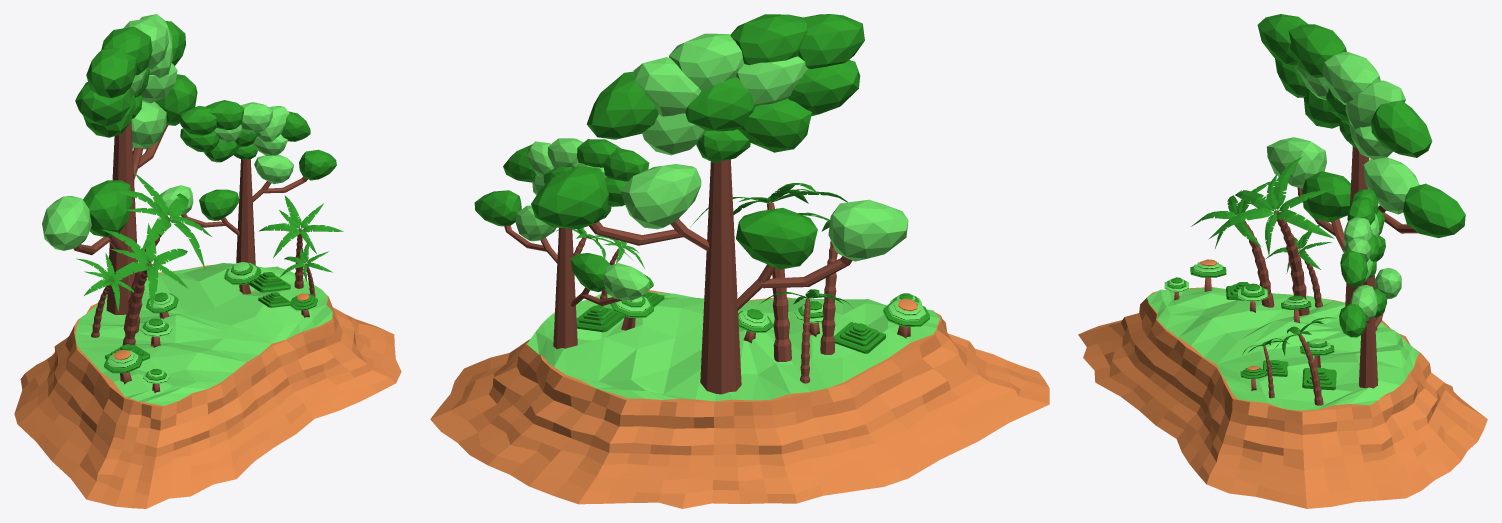
File: IlhaDoNavegante.fbx
3 views of the same model, side by side, from view 1: azimuth 30°, elevation 25°; view 2: azimuth 150°, elevation 25°; view 3: azimuth 270°, elevation 25° (orthographic). The views are drawn at different scales.
Parts seen in each view (by area): view 1: Circle.006, Icosphere.028, Circle.007, Icosphere.001, Cylinder.001, Cylinder.009, Cylinder.002, Cylinder.004, Cube.023, Cube.011, Cylinder.003, Cube.004 (+3 smaller); view 2: Circle.006, Icosphere.028, Circle.007, Icosphere.001, Cylinder.009, Cylinder.001, Cube.023, Plane, Cylinder.004, Plane.001, Cube.011, Cube.008; view 3: Circle.006, Icosphere.028, Circle.007, Icosphere.001, Cylinder.009, Cylinder.001, Cylinder.004, Cylinder.002, Cube.023, Plane.001, Cube.004, Cube.011.
Part boxes in pixels (x1=…): Circle.006: x1=14, y1=264, x2=401, y2=508; Icosphere.028: x1=42, y1=14, x2=197, y2=314; Circle.007: x1=75, y1=263, x2=332, y2=405; Icosphere.001: x1=155, y1=100, x2=336, y2=264; Cylinder.001: x1=101, y1=223, x2=188, y2=345; Cylinder.009: x1=102, y1=172, x2=212, y2=333; Cylinder.002: x1=259, y1=195, x2=343, y2=288; Cylinder.004: x1=76, y1=253, x2=134, y2=337; Cube.023: x1=104, y1=349, x2=142, y2=384; Cube.011: x1=224, y1=262, x2=261, y2=294; Cylinder.003: x1=279, y1=241, x2=332, y2=305; Cube.004: x1=139, y1=318, x2=172, y2=347; Circle.006: x1=430, y1=290, x2=1049, y2=508; Icosphere.028: x1=531, y1=14, x2=908, y2=394; Circle.007: x1=527, y1=291, x2=939, y2=401; Icosphere.001: x1=474, y1=138, x2=649, y2=348; Cylinder.009: x1=690, y1=183, x2=847, y2=361; Cylinder.001: x1=798, y1=212, x2=837, y2=354; Cube.023: x1=883, y1=298, x2=929, y2=338; Plane: x1=834, y1=322, x2=885, y2=353; Cylinder.004: x1=760, y1=289, x2=853, y2=383; Plane.001: x1=576, y1=305, x2=624, y2=332; Cube.011: x1=610, y1=295, x2=654, y2=330; Cube.008: x1=738, y1=309, x2=772, y2=343; Circle.006: x1=1078, y1=287, x2=1487, y2=508; Icosphere.028: x1=1257, y1=14, x2=1465, y2=330; Circle.007: x1=1146, y1=287, x2=1418, y2=410; Icosphere.001: x1=1339, y1=189, x2=1401, y2=388; Cylinder.009: x1=1208, y1=156, x2=1336, y2=315; Cylinder.001: x1=1191, y1=180, x2=1280, y2=307; Cylinder.004: x1=1265, y1=225, x2=1331, y2=307; Cylinder.002: x1=1274, y1=317, x2=1336, y2=405; Cube.023: x1=1190, y1=259, x2=1226, y2=291; Plane.001: x1=1302, y1=367, x2=1336, y2=390; Cube.004: x1=1238, y1=283, x2=1267, y2=312; Cube.011: x1=1300, y1=338, x2=1334, y2=367.
Size of the model in its own units: 15047 by 13098 by 13695.
